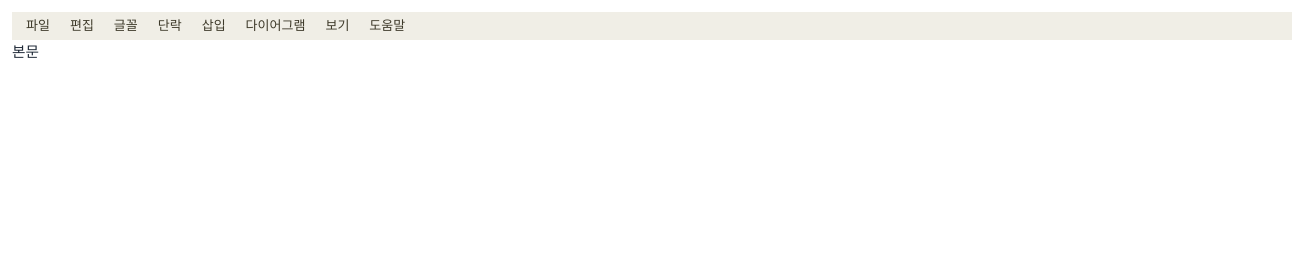
Scenario: 파일 > 내보내기 submenu › shows PDF and Word export items inside the file menu
Click the menu item "파일". click: (38, 26)
box: [16,14,60,38]
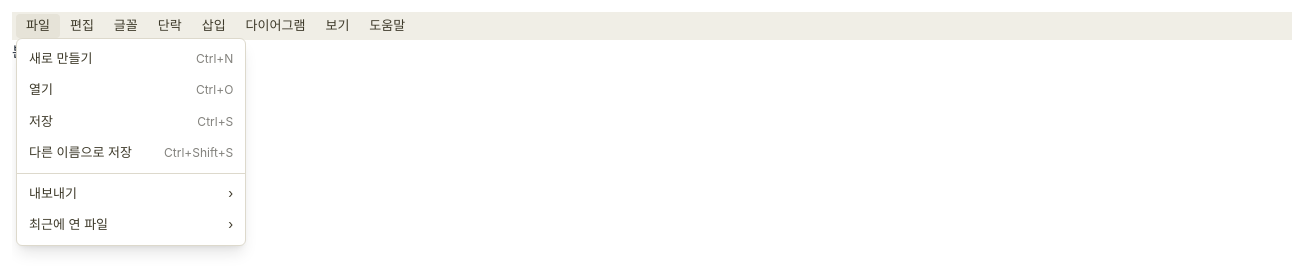
Check: the menu item "내보내기 ›" is shown, box [29,185,233,201]
